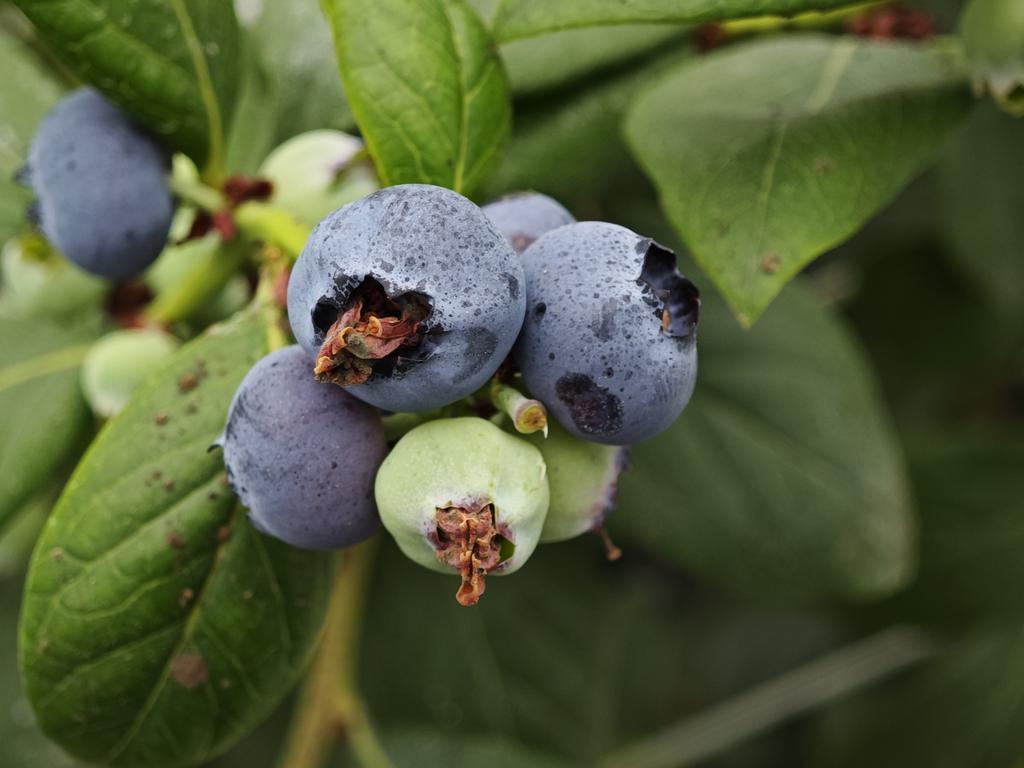RipeBlueBerry: (285, 183, 528, 416), (524, 215, 704, 447)
UnripeBlueBerry: (372, 415, 556, 589)
